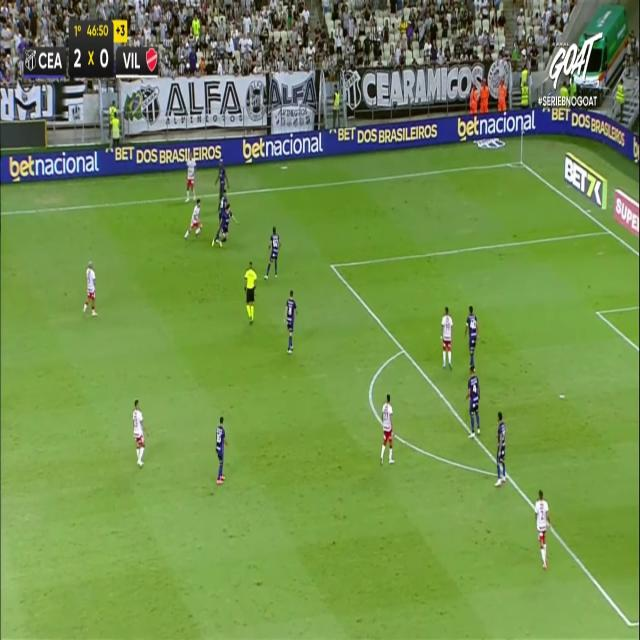player: (534, 489, 552, 569), (210, 202, 237, 252), (465, 364, 481, 438), (379, 393, 395, 465), (132, 398, 147, 467), (263, 226, 281, 279), (464, 304, 478, 371), (494, 411, 506, 486), (284, 289, 298, 353), (83, 261, 98, 316), (440, 306, 453, 369), (215, 416, 227, 484), (184, 197, 203, 239), (211, 192, 230, 232), (214, 161, 231, 204), (185, 149, 197, 202)
referee: (243, 261, 257, 324)
